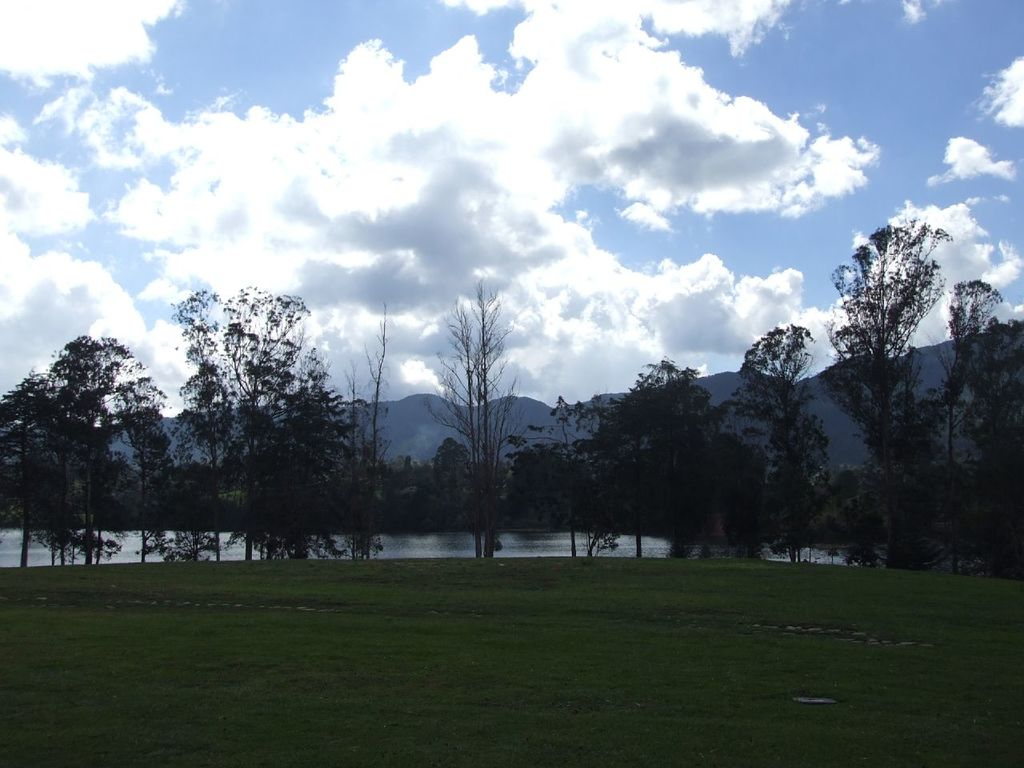Tree: (730, 216, 1020, 590), (163, 282, 388, 566), (511, 351, 774, 562), (0, 335, 204, 567), (388, 279, 510, 555)
